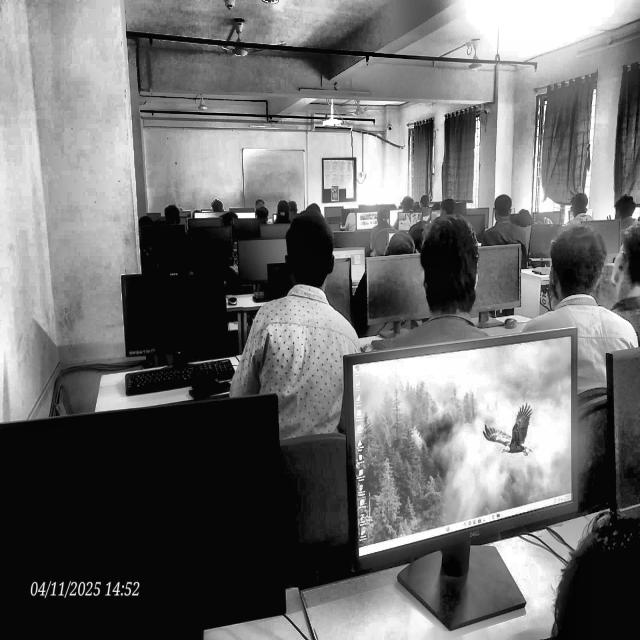Focus: (276, 190, 377, 414), (528, 211, 640, 406), (439, 176, 640, 277), (136, 179, 382, 237), (425, 198, 502, 362)
Not Focus: (563, 467, 638, 640)
